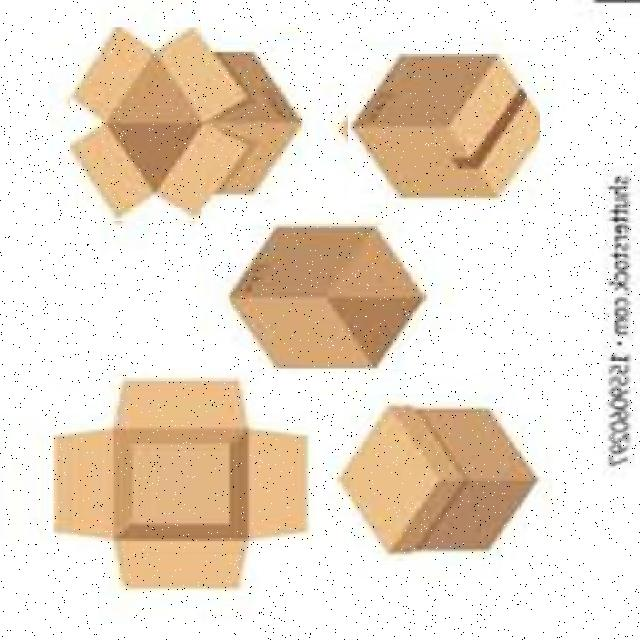defect: (43, 376, 312, 606), (70, 28, 304, 222), (230, 225, 424, 369)
normal: (348, 52, 540, 203), (348, 400, 540, 551)
